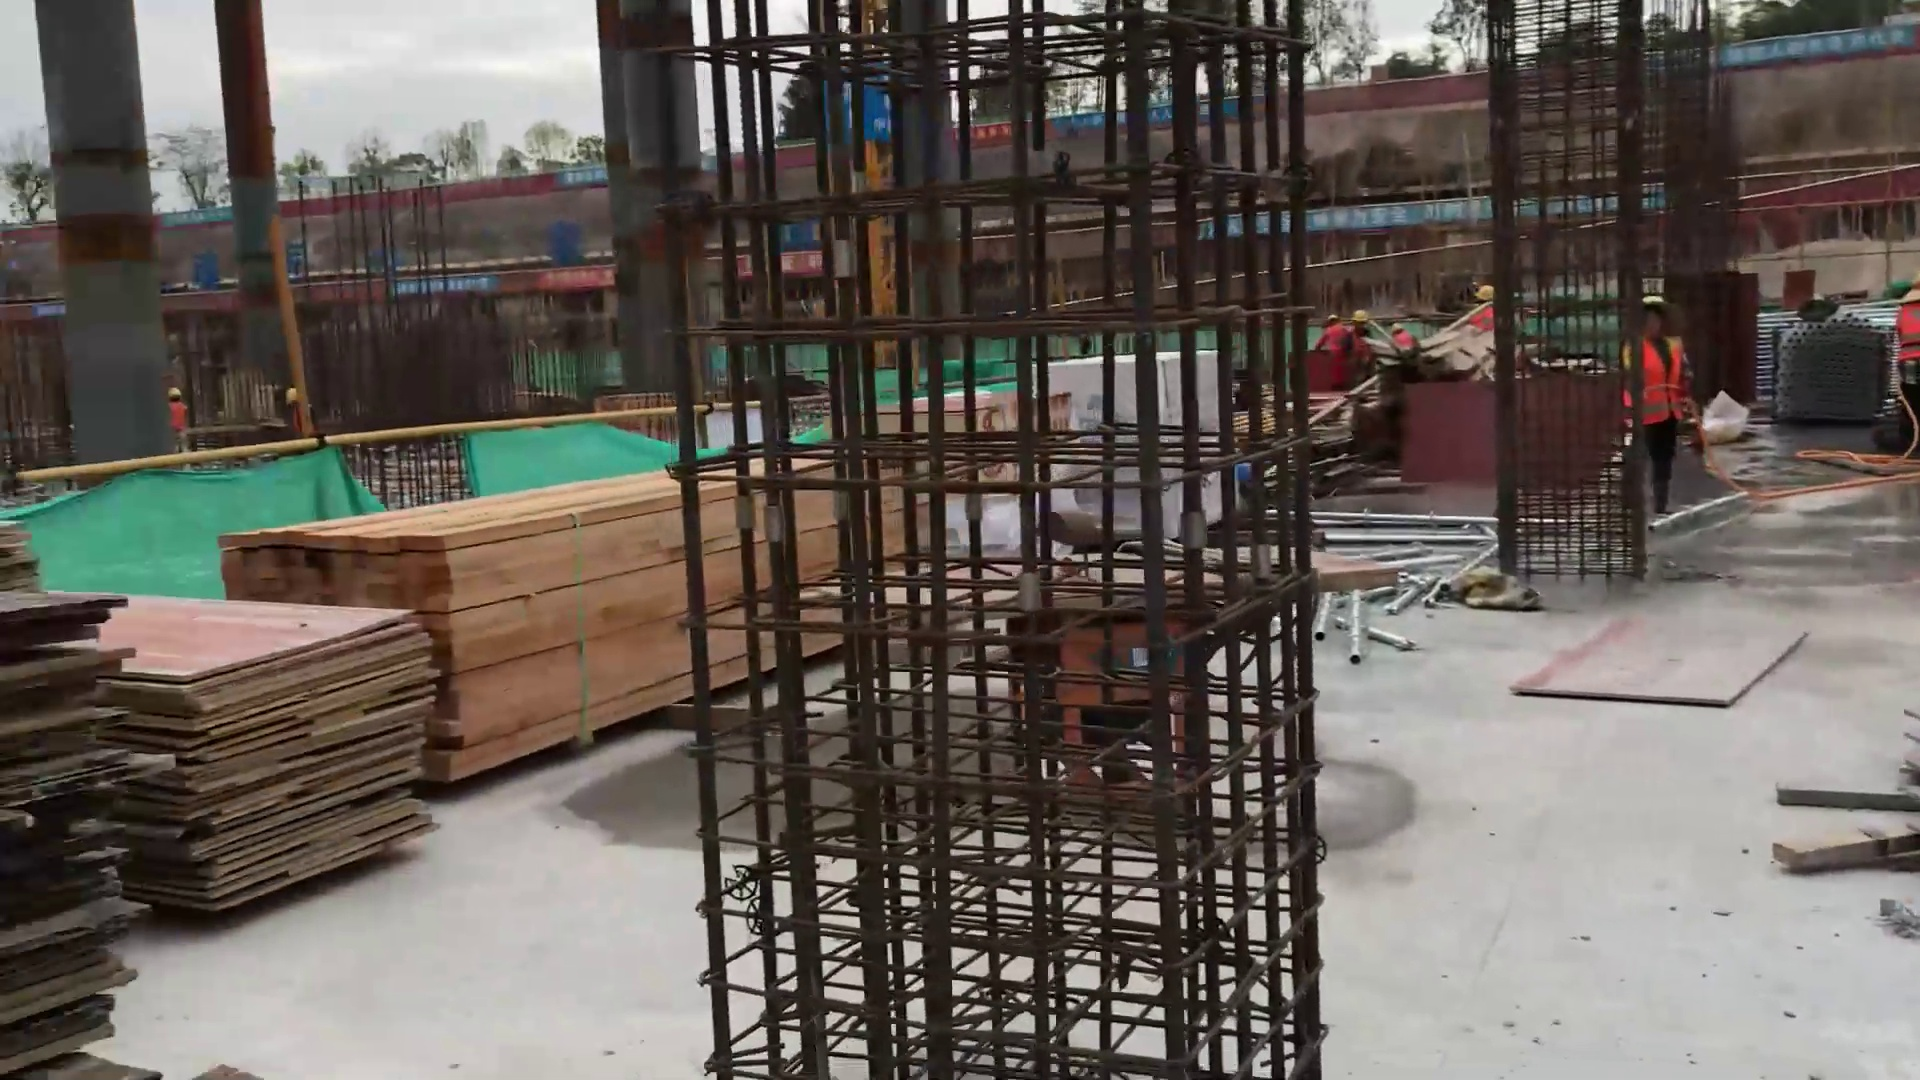board: (84, 584, 449, 884), (1, 519, 161, 1071)
cutter: (796, 506, 1416, 794)
helmet: (1639, 290, 1687, 325), (1474, 285, 1499, 305), (287, 388, 305, 406), (1353, 310, 1370, 320), (170, 385, 182, 400), (1392, 326, 1406, 333), (1326, 315, 1341, 319)
person: (1630, 285, 1695, 510), (1896, 278, 1919, 427), (282, 389, 318, 439), (1472, 279, 1499, 339), (1388, 317, 1424, 355), (1348, 305, 1373, 356), (168, 387, 190, 443), (1318, 316, 1348, 351)
scaffold: (1749, 302, 1893, 426)
vest: (1635, 339, 1682, 427), (290, 408, 312, 434), (1325, 325, 1348, 351), (169, 402, 187, 434), (1349, 325, 1369, 353), (1477, 307, 1500, 328), (1395, 334, 1417, 353)
wood: (311, 472, 911, 777)
